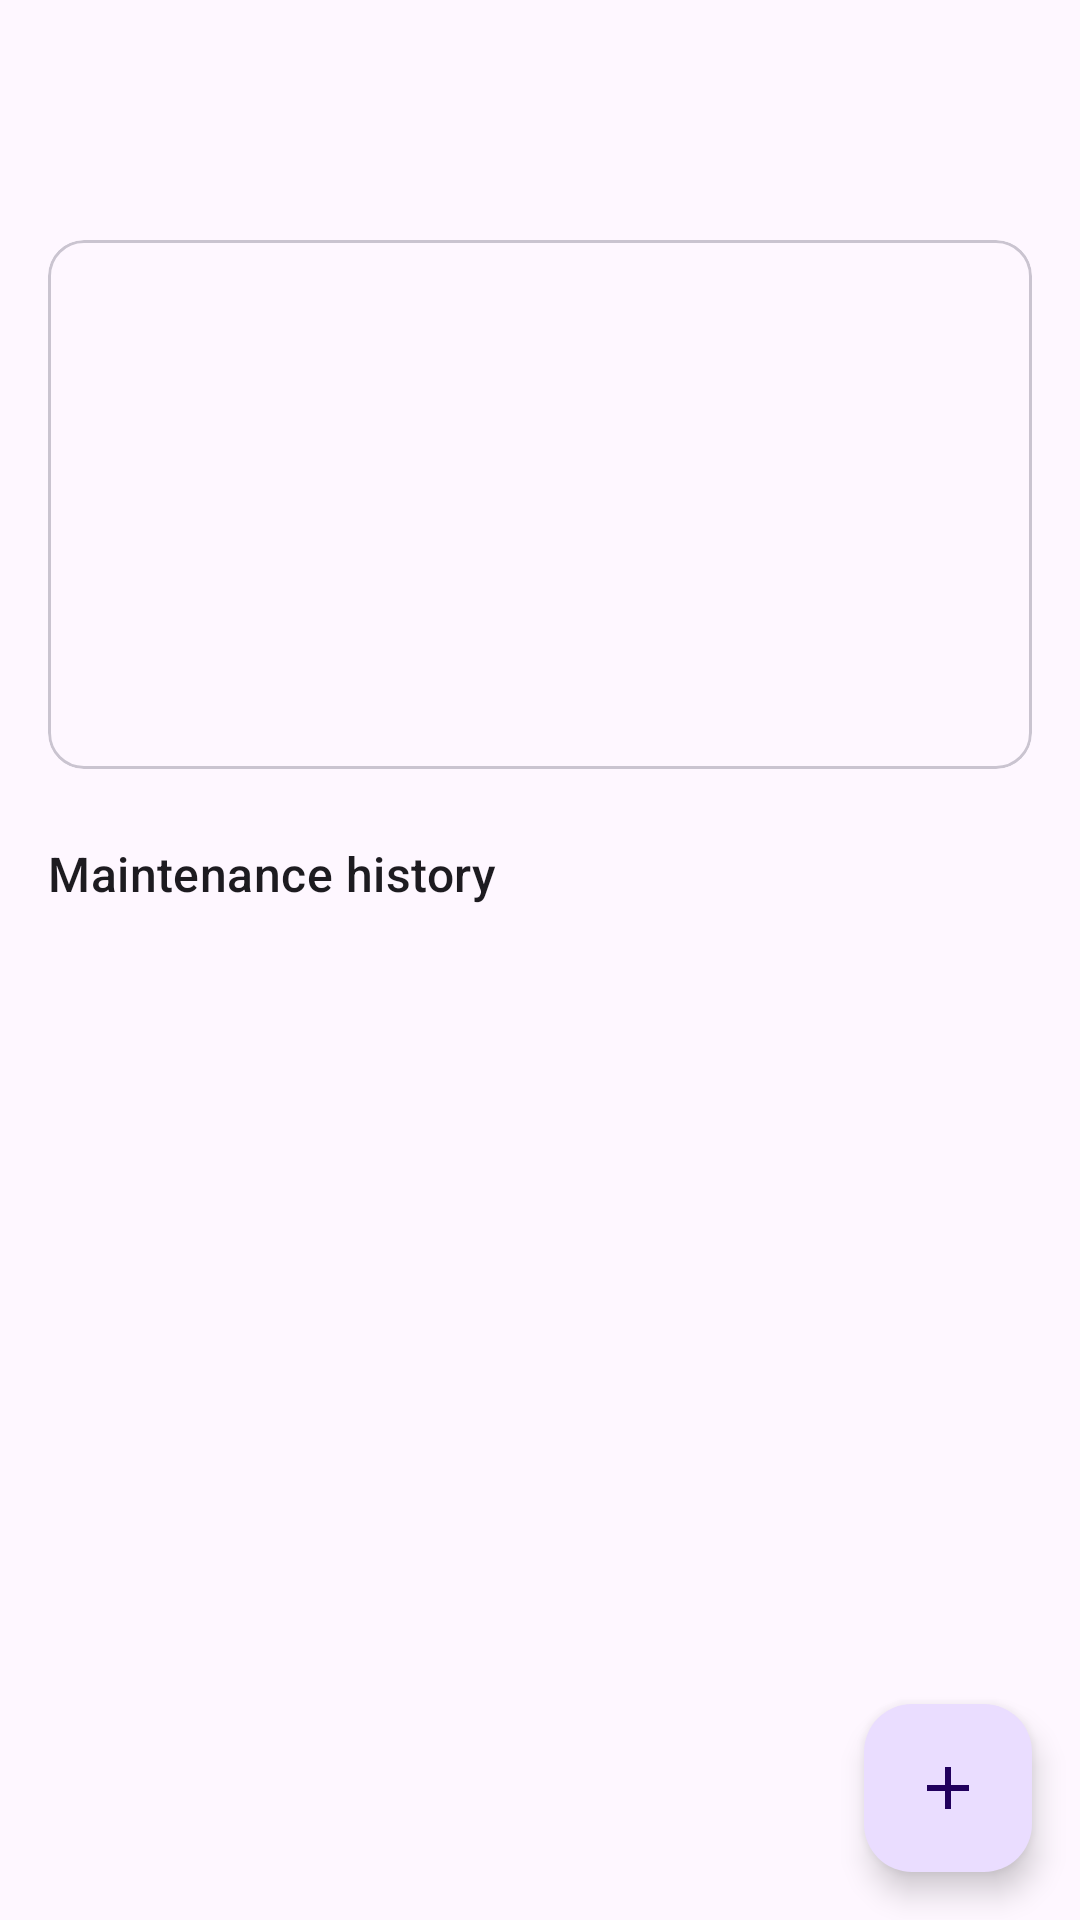

Screen size 1080x1920. Icon name, then its box in pixels as (x1, y1, x2, y2):
Add maintenance record: (864, 1704, 1032, 1872)
